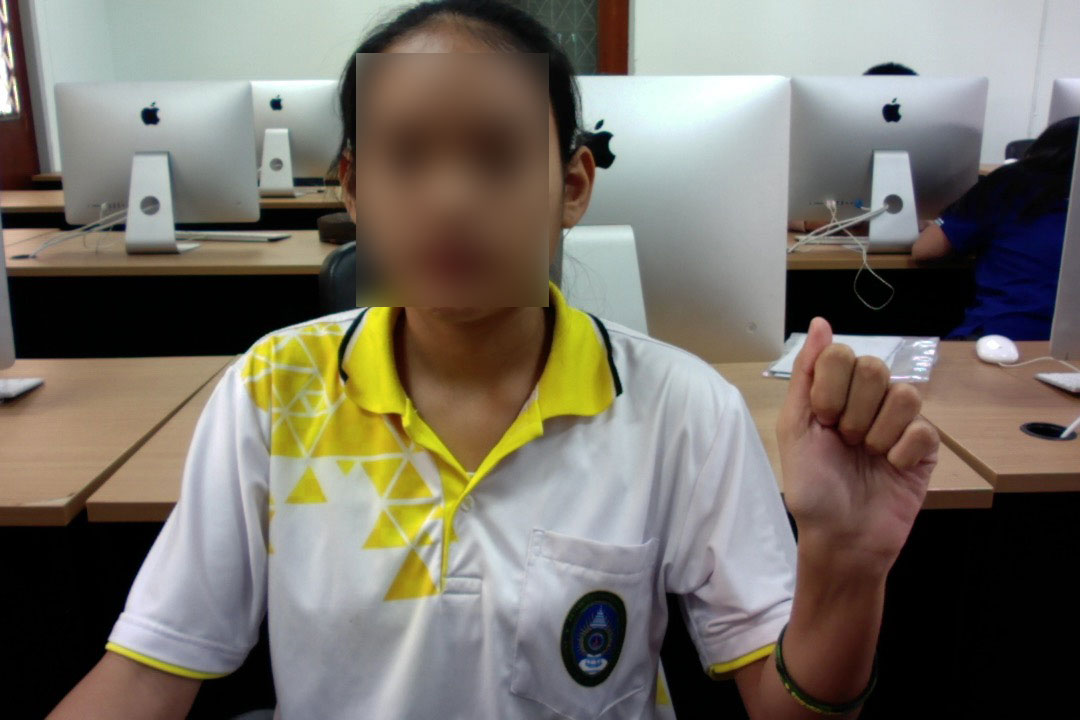or: (769, 298, 943, 570)
